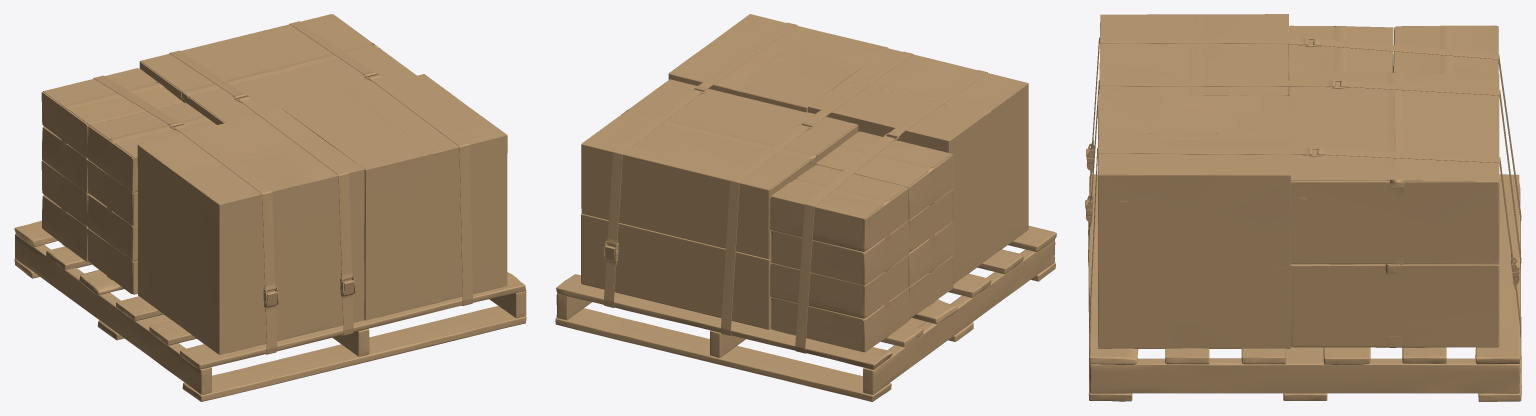
Rendered from pallet_assembly_brown_f05.glb.
3 renders of one model, left to right at view 1: azimuth 30°, elevation 25°; view 2: azimuth 150°, elevation 25°; view 3: azimuth 270°, elevation 25°, orthographic. The views are drawn at different scales.
Size of the model in its own units: 1.06 by 0.5878 by 1.06.
